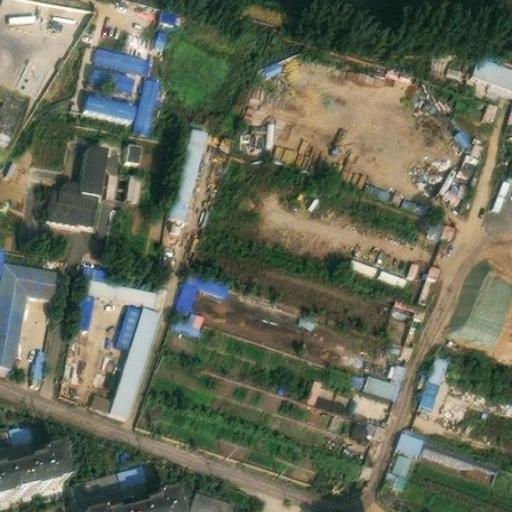building: (89, 297, 162, 415), (70, 258, 158, 326), (46, 138, 108, 222), (167, 120, 211, 226), (165, 260, 225, 333), (413, 436, 501, 485), (70, 461, 148, 502), (0, 445, 64, 493), (446, 43, 512, 83), (299, 376, 353, 420), (345, 249, 408, 284), (412, 348, 449, 406), (351, 358, 405, 393), (90, 42, 149, 72), (430, 168, 470, 210), (388, 425, 420, 473), (82, 91, 136, 118), (0, 93, 24, 146), (191, 485, 236, 512), (101, 166, 141, 196), (87, 62, 132, 87), (133, 76, 158, 121), (418, 213, 453, 244), (488, 173, 512, 215), (0, 416, 32, 446), (453, 150, 480, 182), (347, 418, 380, 444), (395, 194, 428, 218), (26, 347, 46, 384), (446, 125, 474, 151), (255, 56, 284, 81), (155, 5, 180, 27), (119, 141, 141, 166), (476, 99, 497, 125), (150, 27, 170, 51), (259, 121, 274, 149)
